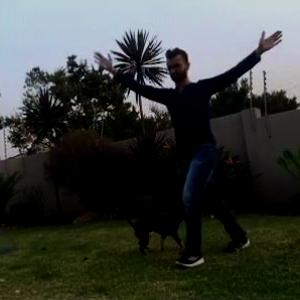takeoff: (127, 31, 274, 239)
